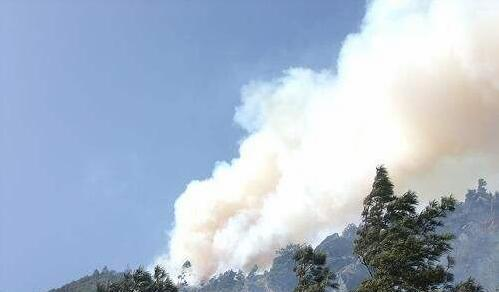yanwu: (155, 0, 499, 282)
